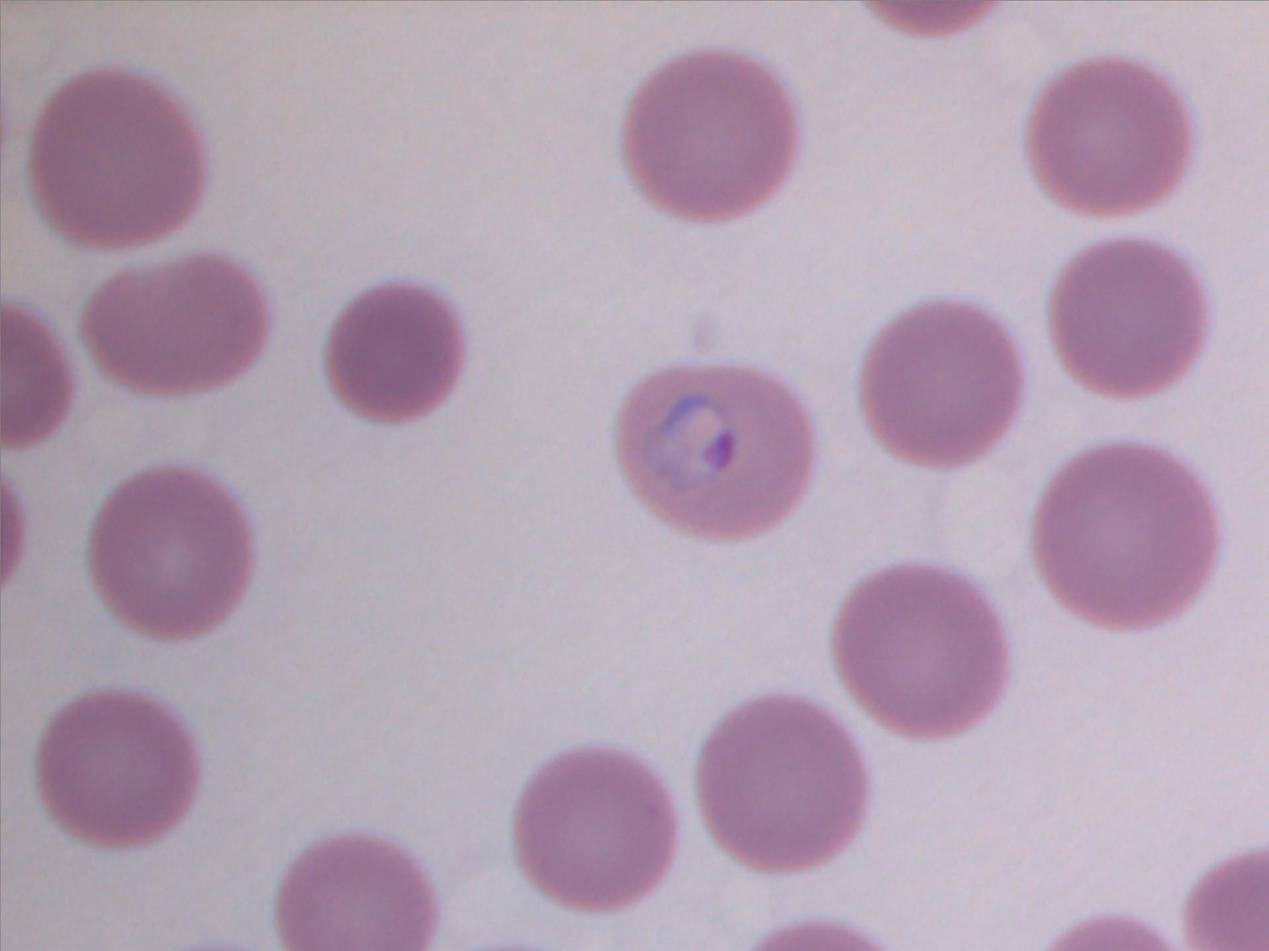Infected: (617, 362, 812, 542)
Uninfected: (1030, 443, 1215, 628), (832, 560, 1011, 743), (30, 68, 212, 245), (85, 465, 258, 642), (621, 49, 801, 219), (703, 692, 871, 871), (857, 301, 1026, 464), (31, 689, 200, 851), (83, 252, 270, 397), (516, 745, 677, 912), (1028, 55, 1194, 213), (1051, 239, 1210, 397), (325, 280, 469, 420), (277, 837, 434, 950)
